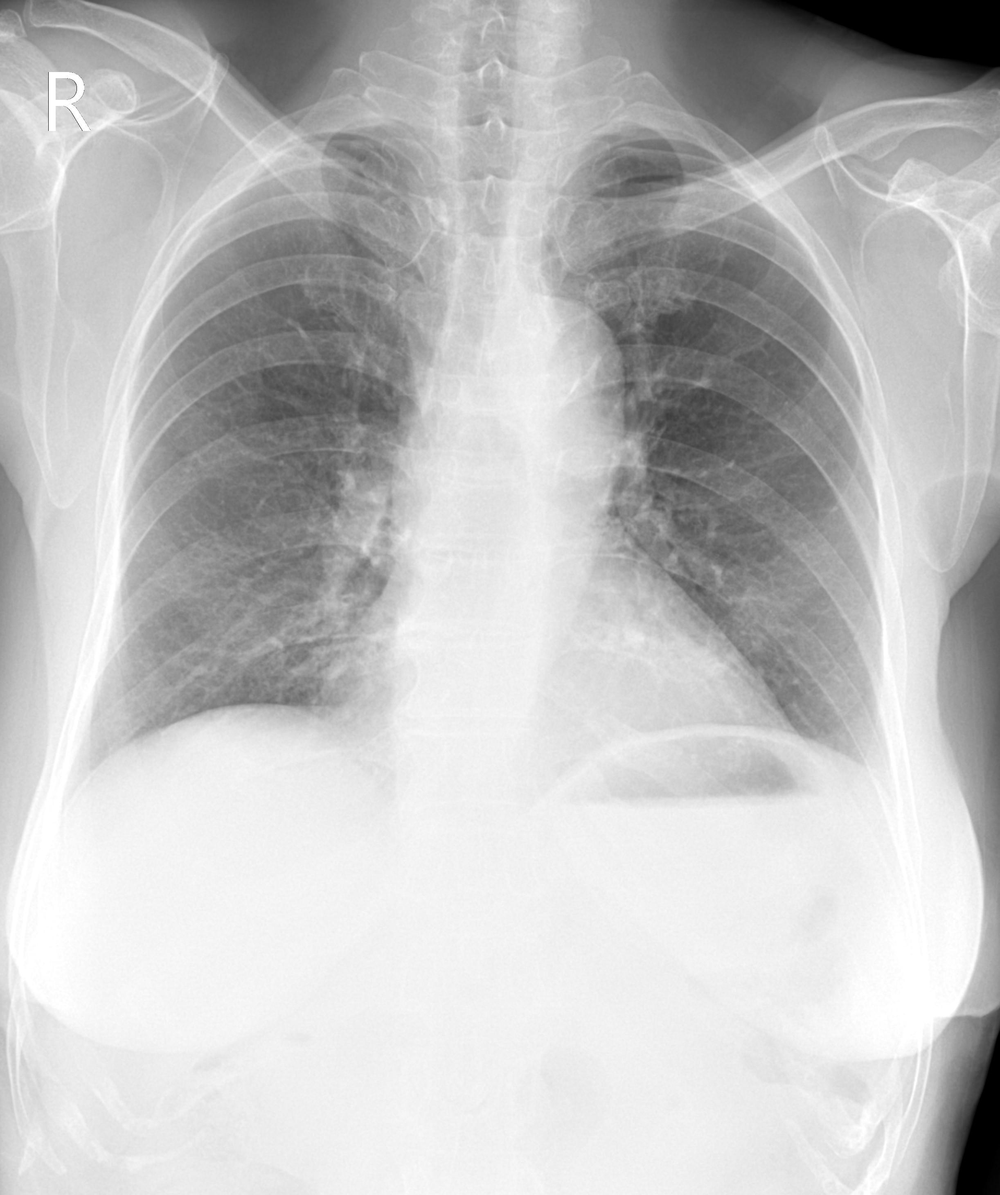Aortic enlargement: (488, 290, 626, 479)
Cardiomegaly: (318, 631, 795, 746)
